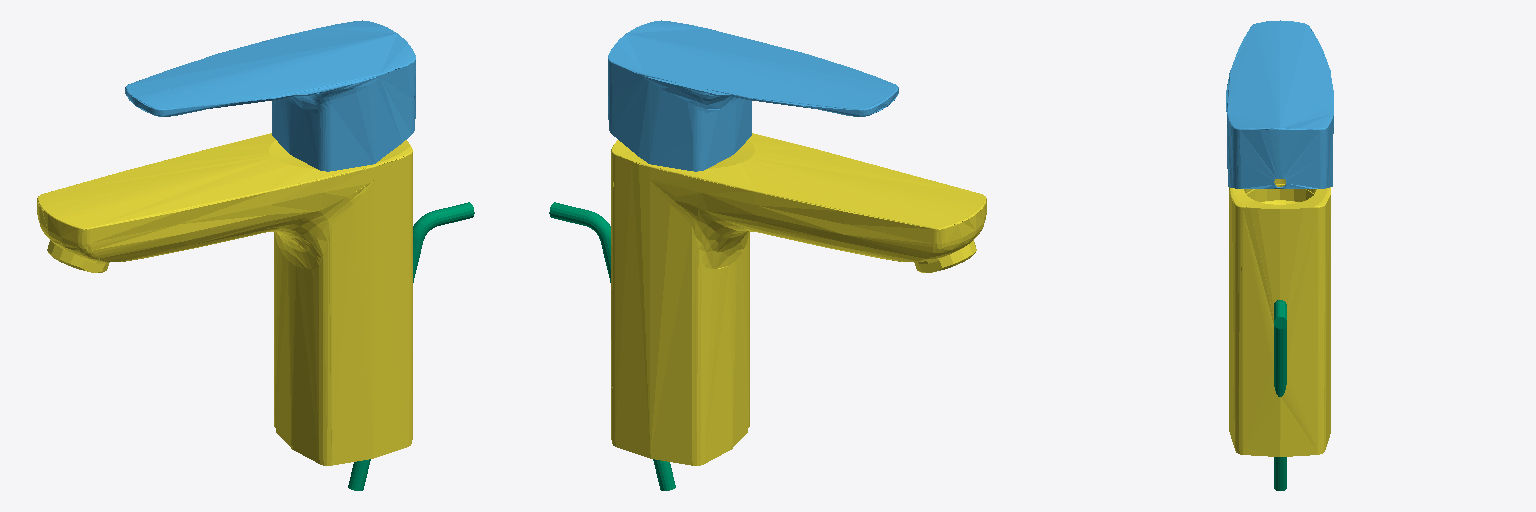
robot.urdf — partnet_af708fe6eac1bc9450da8b99982a3057:
<?xml version="1.0" ?>
<robot name="partnet_af708fe6eac1bc9450da8b99982a3057">
	<link name="base"/>
	<link name="link_0">
		<visual name="switch-2">
			<origin xyz="0.0014217322046756703 0.0008438183700366288 0.19866807746481574"/>
			<geometry>
				<mesh filename="textured_objs/original-90.obj"/>
			</geometry>
		</visual>
		<collision>
			<origin xyz="0.0014217322046756703 0.0008438183700366288 0.19866807746481574"/>
			<geometry>
				<mesh filename="textured_objs/original-90.obj"/>
			</geometry>
		</collision>
	</link>
	<joint name="joint_0" type="revolute">
		<origin xyz="-0.0014217322046756703 -0.0008438183700366288 -0.19866807746481574"/>
		<axis xyz="0 -1 -0"/>
		<child link="link_0"/>
		<parent link="link_2"/>
		<limit lower="-1.5707963267948966" upper="1.5707963267948966"/>
	</joint>
	<link name="link_1">
		<visual name="other_leaf-12">
			<origin xyz="0.011756853452593006 0.055693359729426906 0.44988030708751675"/>
			<geometry>
				<mesh filename="textured_objs/original-98.obj"/>
			</geometry>
		</visual>
		<collision>
			<origin xyz="0.011756853452593006 0.055693359729426906 0.44988030708751675"/>
			<geometry>
				<mesh filename="textured_objs/original-98.obj"/>
			</geometry>
		</collision>
	</link>
	<joint name="joint_1" type="fixed">
		<origin xyz="-0.011756853452593006 -0.055693359729426906 -0.44988030708751675"/>
		<axis xyz="0 -1 0.27"/>
		<child link="link_1"/>
		<parent link="link_2"/>
		<limit lower="-0.4079999999999999" upper="0.16799999999999993"/>
	</joint>
	<link name="link_2">
		<visual name="vertical_support-8">
			<origin xyz="0 0 0"/>
			<geometry>
				<mesh filename="textured_objs/new-5.obj"/>
			</geometry>
		</visual>
		<visual name="surface_base-10">
			<origin xyz="0 0 0"/>
			<geometry>
				<mesh filename="textured_objs/original-97.obj"/>
			</geometry>
		</visual>
		<visual name="tube-5">
			<origin xyz="0 0 0"/>
			<geometry>
				<mesh filename="textured_objs/new-0.obj"/>
			</geometry>
		</visual>
		<visual name="head-6">
			<origin xyz="0 0 0"/>
			<geometry>
				<mesh filename="textured_objs/new-3.obj"/>
			</geometry>
		</visual>
		<visual name="mouth-7">
			<origin xyz="0 0 0"/>
			<geometry>
				<mesh filename="textured_objs/original-3.obj"/>
			</geometry>
		</visual>
		<visual name="mouth-7">
			<origin xyz="0 0 0"/>
			<geometry>
				<mesh filename="textured_objs/original-5.obj"/>
			</geometry>
		</visual>
		<collision>
			<origin xyz="0 0 0"/>
			<geometry>
				<mesh filename="textured_objs/new-5.obj"/>
			</geometry>
		</collision>
		<collision>
			<origin xyz="0 0 0"/>
			<geometry>
				<mesh filename="textured_objs/original-97.obj"/>
			</geometry>
		</collision>
		<collision>
			<origin xyz="0 0 0"/>
			<geometry>
				<mesh filename="textured_objs/new-0.obj"/>
			</geometry>
		</collision>
		<collision>
			<origin xyz="0 0 0"/>
			<geometry>
				<mesh filename="textured_objs/new-3.obj"/>
			</geometry>
		</collision>
		<collision>
			<origin xyz="0 0 0"/>
			<geometry>
				<mesh filename="textured_objs/original-3.obj"/>
			</geometry>
		</collision>
		<collision>
			<origin xyz="0 0 0"/>
			<geometry>
				<mesh filename="textured_objs/original-5.obj"/>
			</geometry>
		</collision>
	</link>
	<joint name="joint_2" type="fixed">
		<origin rpy="1.570796326794897 0 -1.570796326794897" xyz="0 0 0"/>
		<child link="link_2"/>
		<parent link="base"/>
	</joint>
</robot>

--- Render facts (derived) ---
Views: 3 orthographic renders of the robot side by side, from view 1: azimuth 30°, elevation 25°; view 2: azimuth 150°, elevation 25°; view 3: azimuth 270°, elevation 25°.
Robot: partnet_af708fe6eac1bc9450da8b99982a3057 — 4 links, 3 joints (1 revolute, 2 fixed); root link base; default pose: all joints at 0.
Visible links, largest first — view 1: link_2, link_0, link_1; view 2: link_2, link_0, link_1; view 3: link_2, link_0, link_1.
Boxes of the visible links, left/top/right/bottom form: link_2: left=37, top=133, right=412, bottom=465; link_0: left=125, top=20, right=415, bottom=171; link_1: left=348, top=202, right=474, bottom=490; link_2: left=611, top=133, right=986, bottom=465; link_0: left=608, top=20, right=898, bottom=171; link_1: left=549, top=202, right=675, bottom=490; link_2: left=1229, top=179, right=1330, bottom=456; link_0: left=1226, top=20, right=1333, bottom=188; link_1: left=1274, top=300, right=1286, bottom=490.
Bounding box of the posed robot: 1.5 × 0.3939 × 1.52 m (x, y, z).
7 mesh visuals loaded from 8 distinct referenced files (7 OBJ); not drawn: 1 (reference not matched to a file when rendering).
